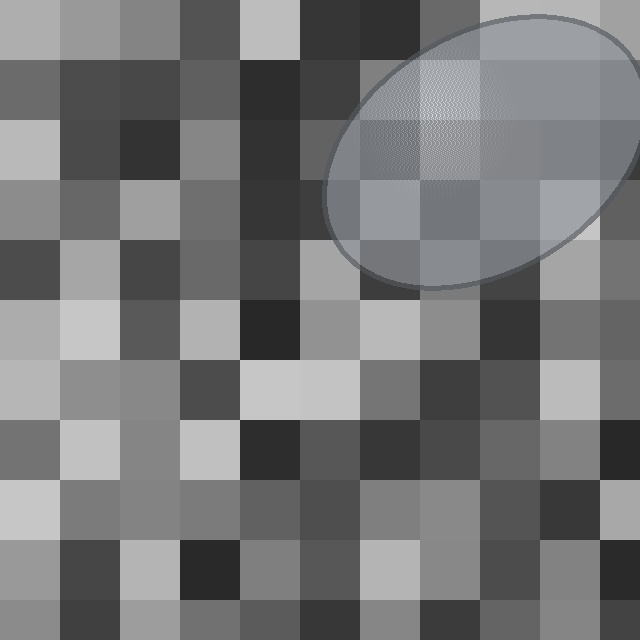lens: (325, 17, 640, 287)
